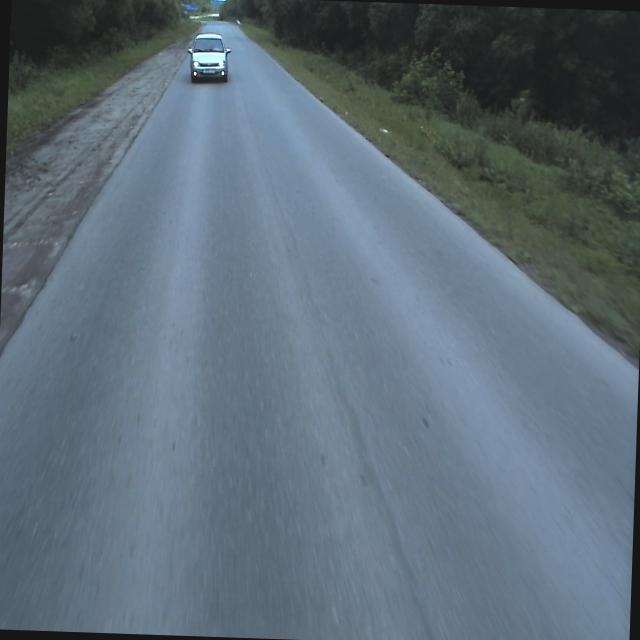road: (0, 21, 638, 640)
